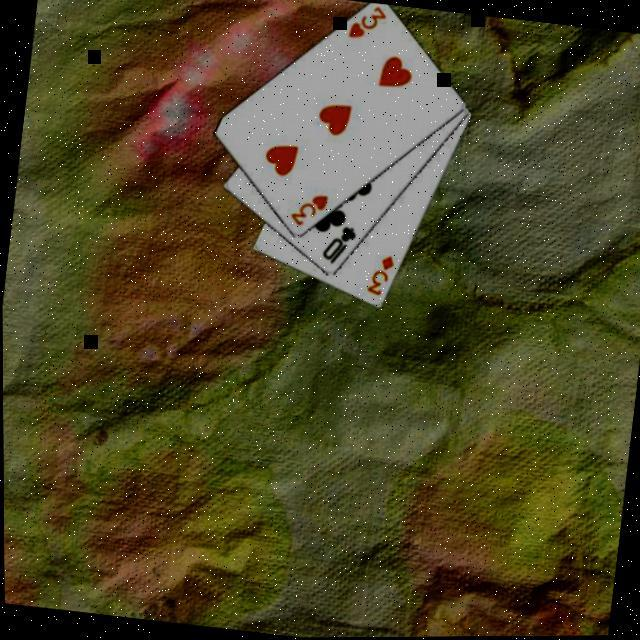10C: (320, 220, 360, 268)
3D: (364, 248, 400, 298)
3H: (286, 186, 333, 232), (346, 0, 392, 43)
